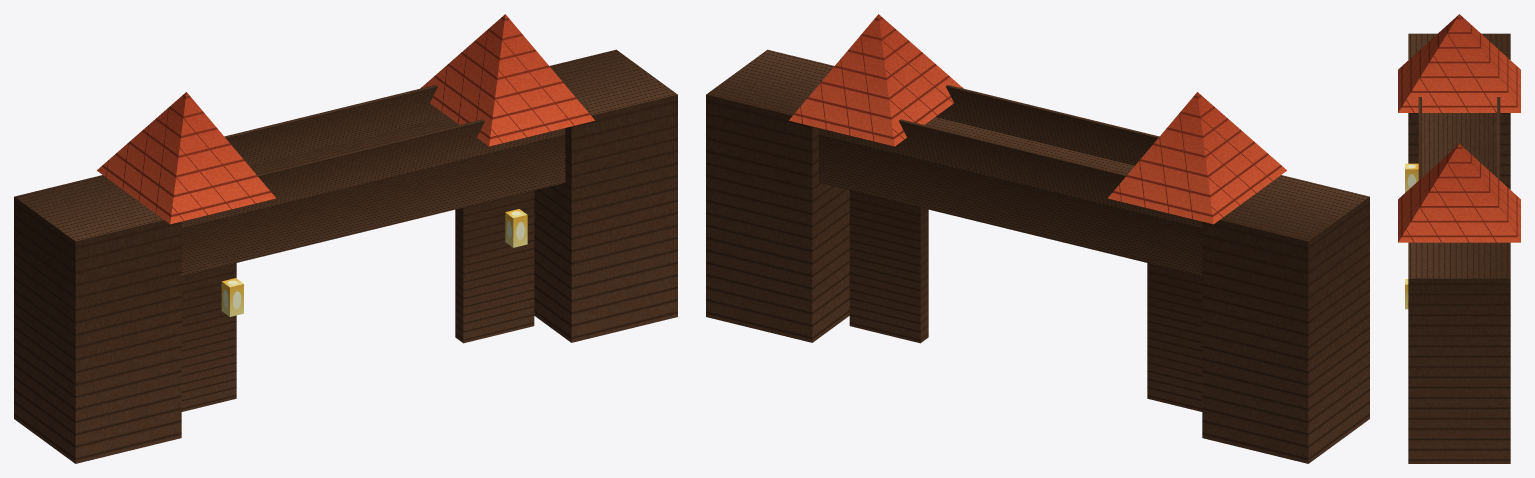
File: village_gate_tower.gltf
3 renders of one model, left to right at view 1: azimuth 30°, elevation 25°; view 2: azimuth 150°, elevation 25°; view 3: azimuth 270°, elevation 25°, orthographic. The views are drawn at different scales.
Visible parts, largest first — view 1: village_gate_tower; view 2: village_gate_tower; view 3: village_gate_tower.
Part boxes in pixels (bbox=[...]): village_gate_tower: bbox=[14, 14, 677, 463]; village_gate_tower: bbox=[706, 14, 1369, 463]; village_gate_tower: bbox=[1398, 14, 1520, 463].
Bounding box in the file's own units: 17 × 8.5 × 3.6.
Materials: 1 (1 with a texture image).
